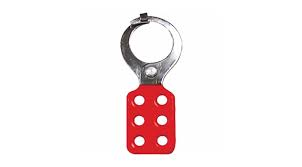hasp: (120, 12, 185, 156)
